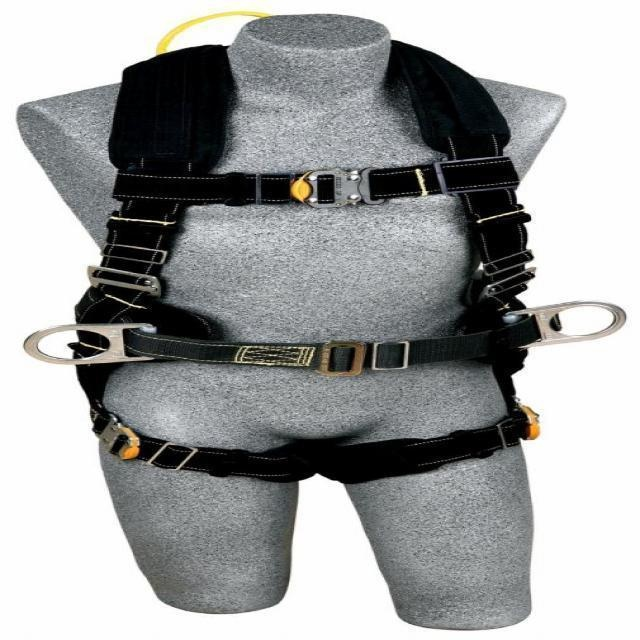Arnes_seguridad: (93, 39, 534, 478)
